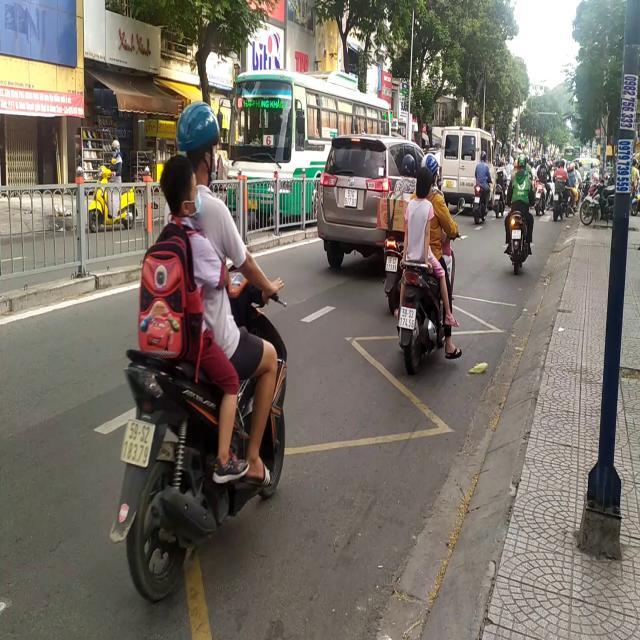bien_trang: (119, 416, 155, 472), (397, 307, 416, 331), (344, 184, 360, 210), (384, 254, 401, 276)
